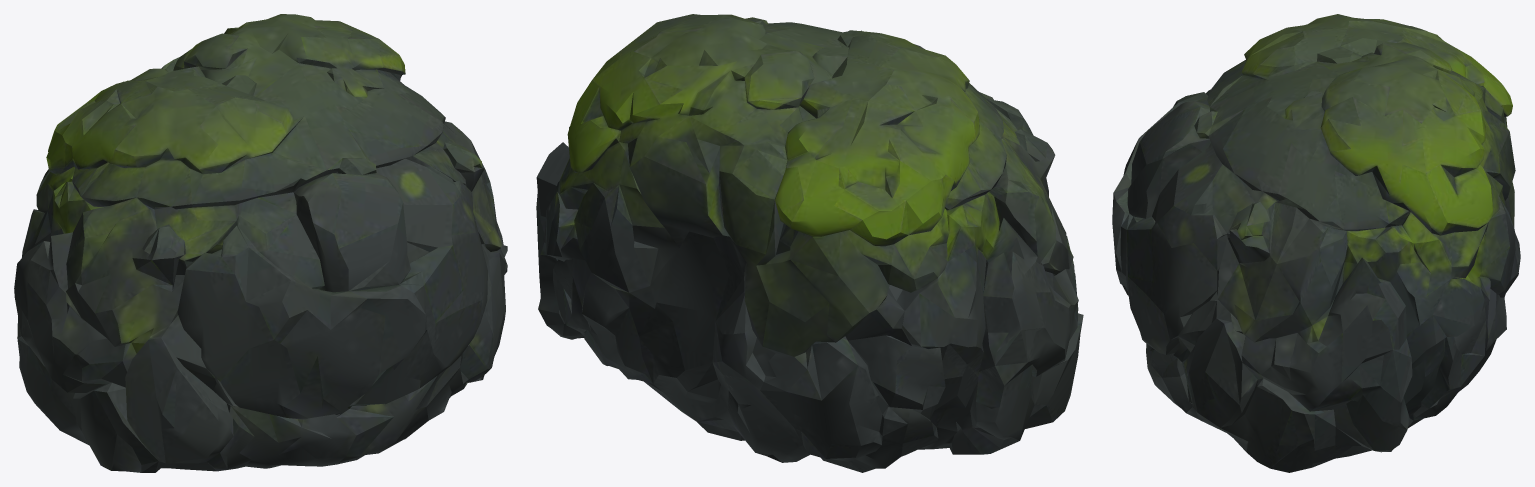
Rendered from mossy_boulder_a.glb.
The picture shows the model from 3 angles, left to right: view 1: azimuth 30°, elevation 25°; view 2: azimuth 150°, elevation 25°; view 3: azimuth 270°, elevation 25°; orthographic projection. The views are drawn at different scales.
Bounding box in the file's own units: 1.9 × 1.42 × 1.5.
1 material, 1 textured.
